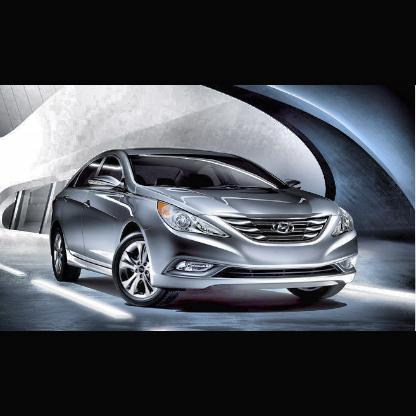Hyundai Sonata Sedan 2012: (53, 148, 358, 307)
